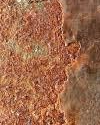Corrosion: (1, 1, 82, 125)
